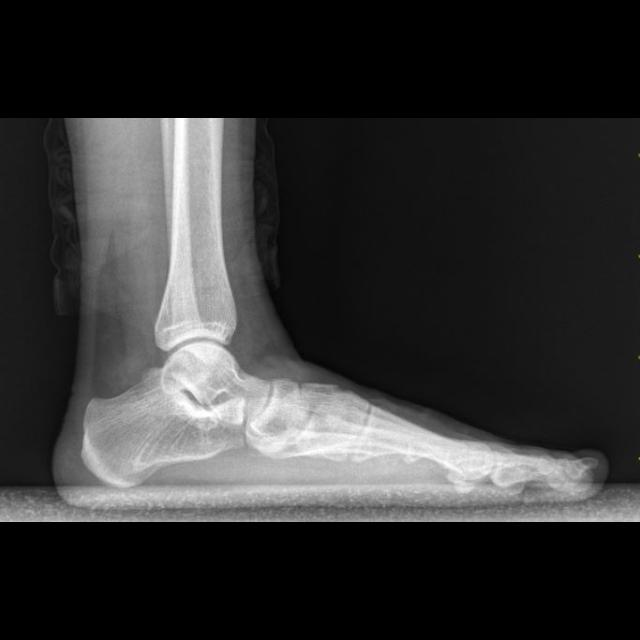a: (84, 372, 244, 489)
b: (253, 382, 303, 440)
c: (356, 406, 492, 491)
